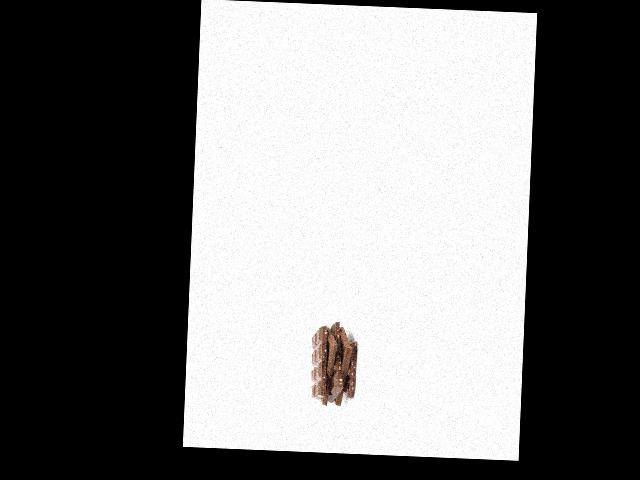chocolate: (328, 327, 362, 405)
